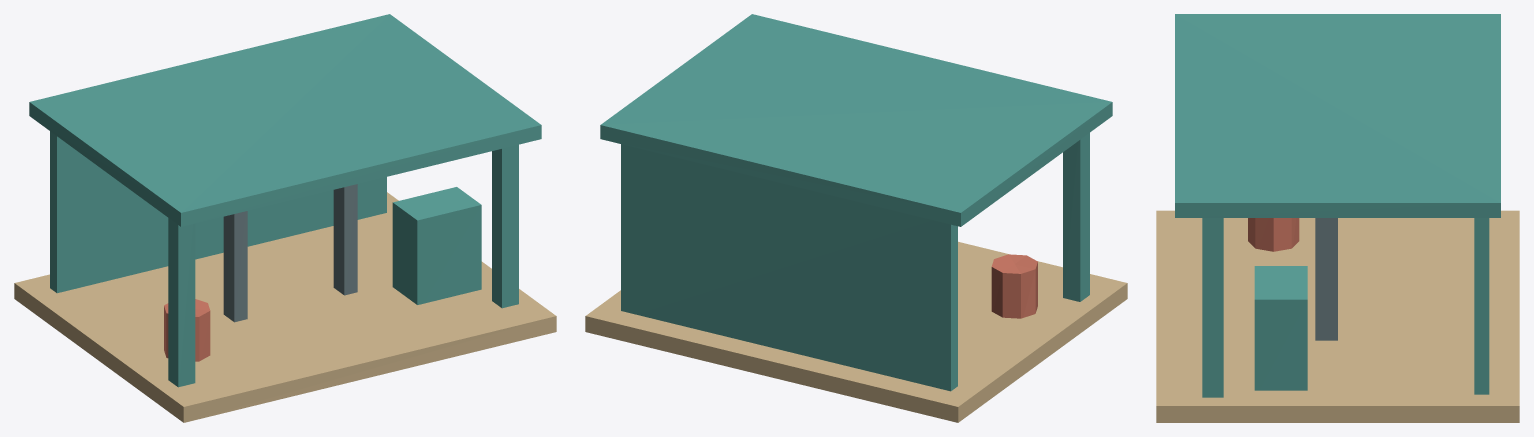
File: Mechanic-Garage.glb
3 renders of one model, left to right at view 1: azimuth 30°, elevation 25°; view 2: azimuth 150°, elevation 25°; view 3: azimuth 270°, elevation 25°, orthographic. The views are drawn at different scales.
Parts seen in each view (by area): view 1: mechanic-garage-static-garage-roof, mechanic-garage-static-garage-concrete, mechanic-garage-static-garage-painted-green, mechanic-garage-static-garage-lift-metal, mechanic-garage-static-garage-safety-orange; view 2: mechanic-garage-static-garage-roof, mechanic-garage-static-garage-painted-green, mechanic-garage-static-garage-concrete, mechanic-garage-static-garage-safety-orange; view 3: mechanic-garage-static-garage-roof, mechanic-garage-static-garage-concrete, mechanic-garage-static-garage-painted-green, mechanic-garage-static-garage-lift-metal, mechanic-garage-static-garage-safety-orange.
Part boxes in pixels (x1,y1,x2,y2): mechanic-garage-static-garage-roof: [29, 14, 541, 226]; mechanic-garage-static-garage-concrete: [14, 192, 556, 422]; mechanic-garage-static-garage-painted-green: [50, 131, 518, 387]; mechanic-garage-static-garage-lift-metal: [223, 184, 357, 322]; mechanic-garage-static-garage-safety-orange: [164, 299, 210, 361]; mechanic-garage-static-garage-roof: [600, 14, 1112, 226]; mechanic-garage-static-garage-painted-green: [621, 133, 1089, 391]; mechanic-garage-static-garage-concrete: [585, 241, 1127, 422]; mechanic-garage-static-garage-safety-orange: [991, 254, 1037, 318]; mechanic-garage-static-garage-roof: [1175, 14, 1500, 217]; mechanic-garage-static-garage-concrete: [1156, 210, 1519, 422]; mechanic-garage-static-garage-painted-green: [1202, 218, 1489, 397]; mechanic-garage-static-garage-lift-metal: [1315, 218, 1337, 340]; mechanic-garage-static-garage-safety-orange: [1248, 218, 1299, 251].
Size of the model in its own units: 6.1 by 3.16 by 4.8.
